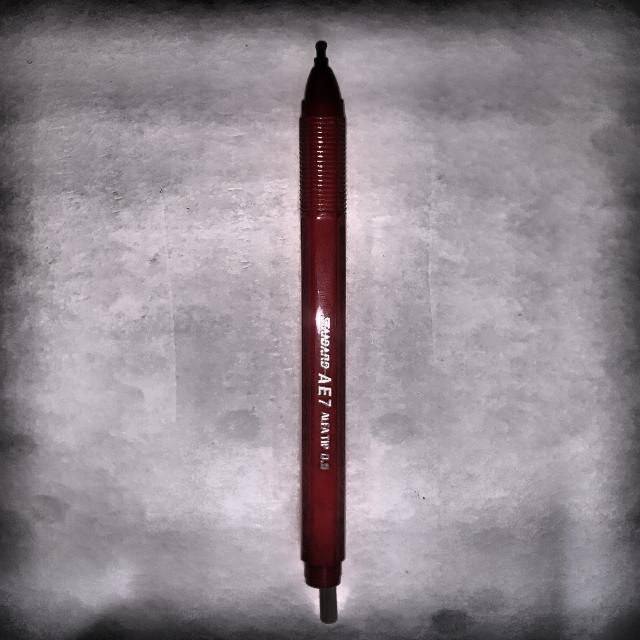Pulpen: (286, 35, 379, 633)
